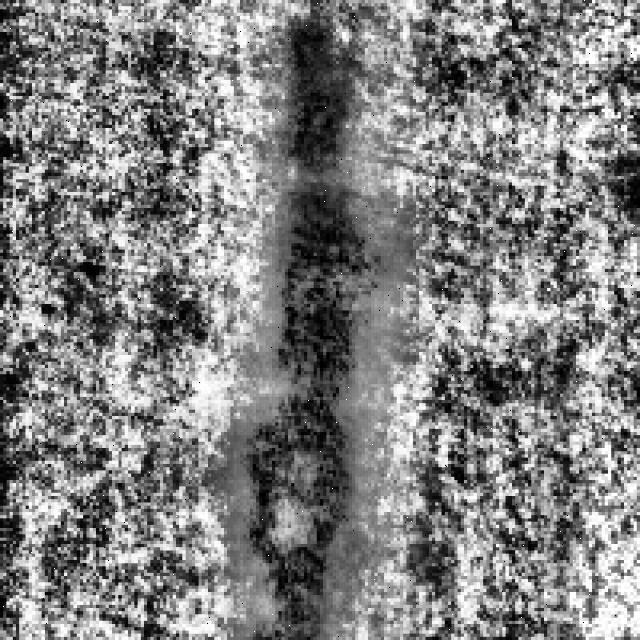Scratches: (244, 172, 390, 634)
